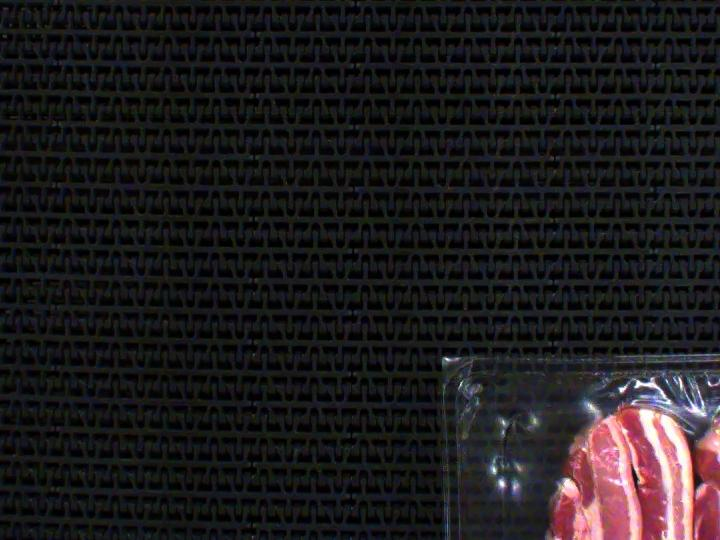unsealed: (438, 343, 720, 540)
